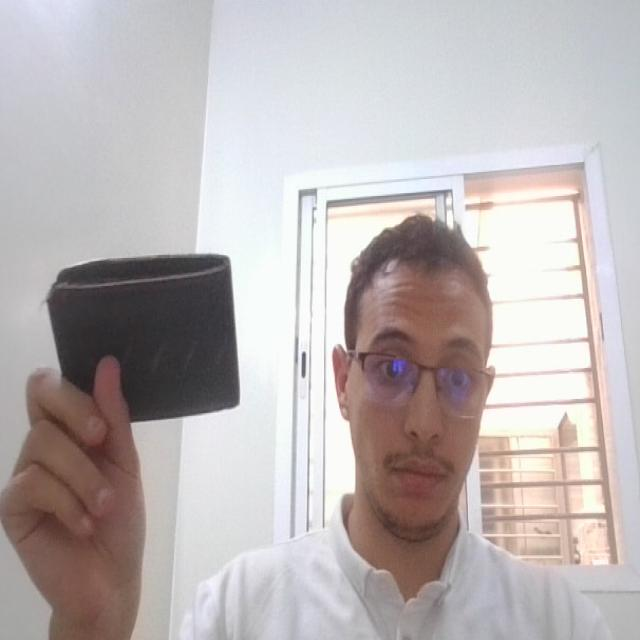wallet: (35, 248, 246, 428)
